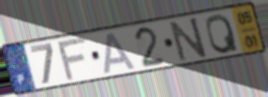2: (133, 24, 167, 70)
7: (28, 41, 57, 87)
A: (103, 31, 139, 76)
F: (56, 35, 89, 83)
N: (167, 15, 210, 63)
Q: (205, 12, 241, 55)
